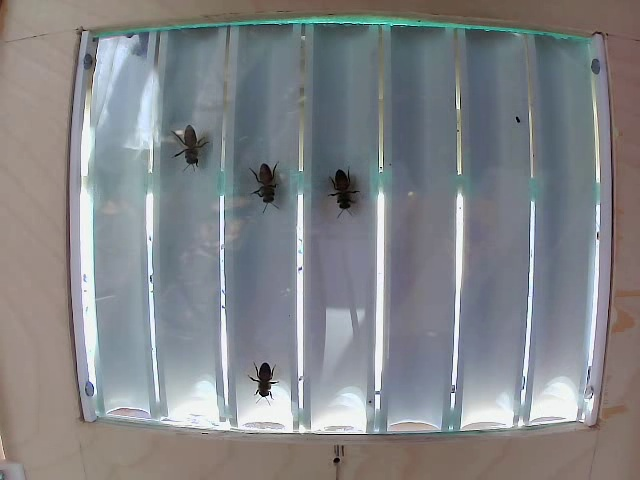bee: (324, 155, 363, 228), (242, 164, 289, 205), (169, 126, 208, 174), (248, 359, 284, 400)
